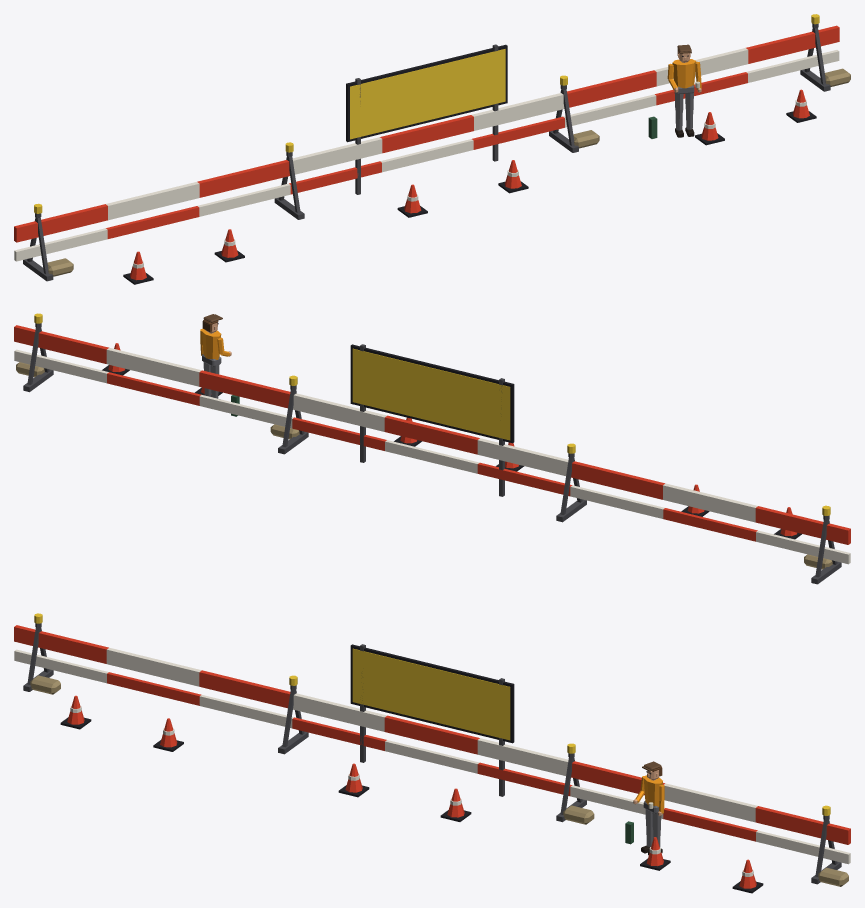
Rendered from world.road-barrier.glb.
3 renders of one model, top to bottom at view 1: azimuth 30°, elevation 25°; view 2: azimuth 150°, elevation 25°; view 3: azimuth 330°, elevation 25°, orthographic.
Visible parts, largest first — view 1: sign, board0, board-3, board-2, board1, board-4, board2, board-1, board4, sign-edge, board-low-3, board-low-2 (+9 smaller); view 2: sign, board0, board3, board-3, board-4, board-2, board1, board2, board-1, board4, sign-edge, board-low-2 (+8 smaller); view 3: sign, board0, board-3, board3, board4, board-1, board-2, board1, board-4, sign-edge, board2, board-low-3 (+8 smaller).
Boxes of the visible parts, left/top/right/bottom form: sign: left=350, top=49, right=505, bottom=139; board0: left=380, top=115, right=473, bottom=153; board-3: left=106, top=182, right=199, bottom=220; board-2: left=197, top=160, right=289, bottom=197; board1: left=471, top=93, right=564, bottom=130; board-4: left=14, top=204, right=107, bottom=242; board2: left=567, top=70, right=656, bottom=107; board-1: left=292, top=137, right=382, bottom=174; board4: left=746, top=25, right=839, bottom=63; sign-edge: left=346, top=44, right=507, bottom=142; board-low-3: left=106, top=206, right=199, bottom=238; board-low-2: left=197, top=183, right=290, bottom=216; sign: left=352, top=348, right=510, bottom=440; board0: left=384, top=415, right=479, bottom=454; board3: left=106, top=347, right=201, bottom=386; board-3: left=663, top=483, right=757, bottom=522; board-4: left=755, top=506, right=850, bottom=544; board-2: left=571, top=461, right=664, bottom=499; board1: left=293, top=393, right=386, bottom=431; board2: left=199, top=370, right=290, bottom=408; board-1: left=477, top=438, right=568, bottom=475; board4: left=14, top=325, right=108, bottom=363; sign-edge: left=350, top=344, right=514, bottom=443; board-low-2: left=570, top=485, right=664, bottom=518; sign: left=352, top=648, right=510, bottom=740; board0: left=384, top=715, right=479, bottom=754; board-3: left=106, top=647, right=201, bottom=686; board3: left=664, top=783, right=757, bottom=822; board4: left=755, top=806, right=850, bottom=844; board-1: left=293, top=693, right=386, bottom=731; board-2: left=199, top=670, right=290, bottom=708; board1: left=477, top=738, right=568, bottom=775; board-4: left=14, top=625, right=108, bottom=663; sign-edge: left=350, top=644, right=514, bottom=743; board2: left=571, top=761, right=664, bottom=795; board-low-3: left=107, top=672, right=201, bottom=705.
Size of the model in its own units: 18.08 by 2.41 by 1.86.
